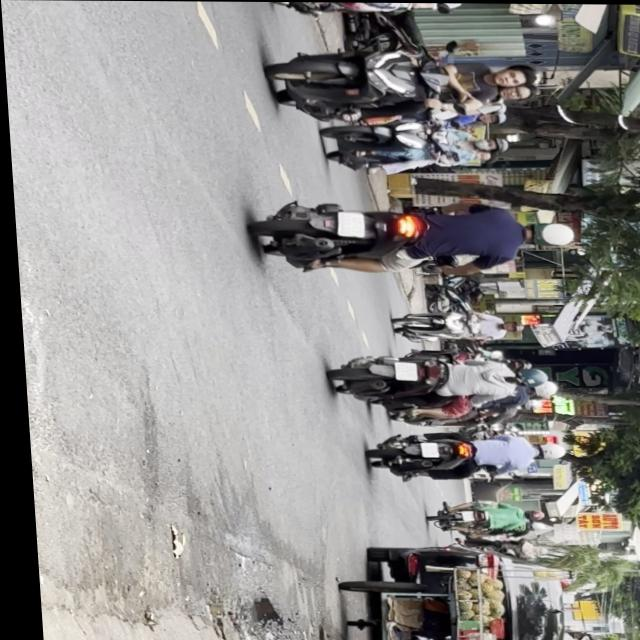helmet: (520, 219, 573, 247), (507, 366, 545, 386), (471, 136, 507, 152), (524, 379, 553, 397)
licenseplate: (244, 197, 576, 276), (262, 43, 541, 126), (322, 352, 553, 409), (317, 117, 510, 174)
motorcyclist: (488, 63, 541, 87), (496, 84, 533, 99)
nohelmet: (331, 210, 363, 237), (390, 362, 413, 380)
